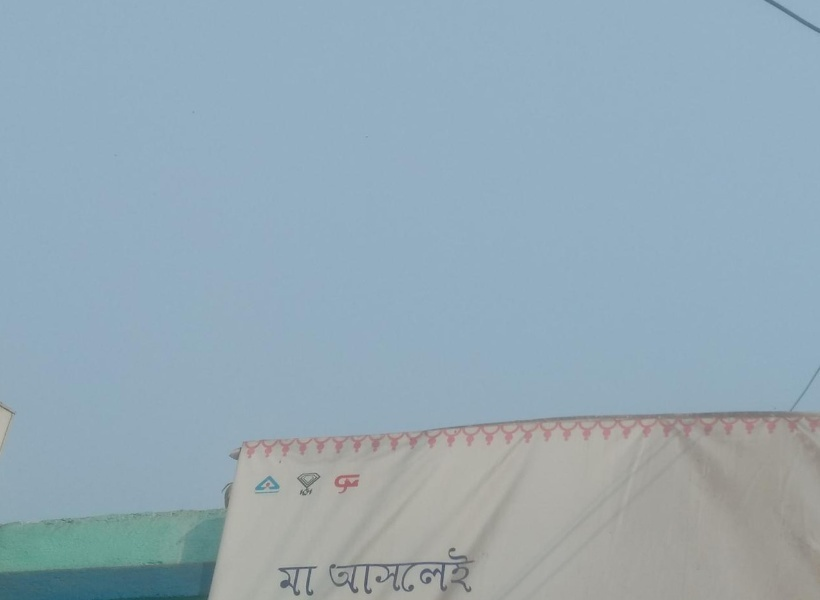text: (337, 545, 352, 598), (353, 545, 368, 598), (369, 545, 384, 598), (385, 545, 400, 598), (401, 545, 416, 598), (417, 545, 432, 598), (433, 545, 448, 598), (449, 545, 464, 598), (465, 545, 480, 598), (289, 565, 304, 597), (305, 565, 320, 597), (481, 545, 490, 598), (328, 545, 336, 598), (278, 565, 288, 597)
